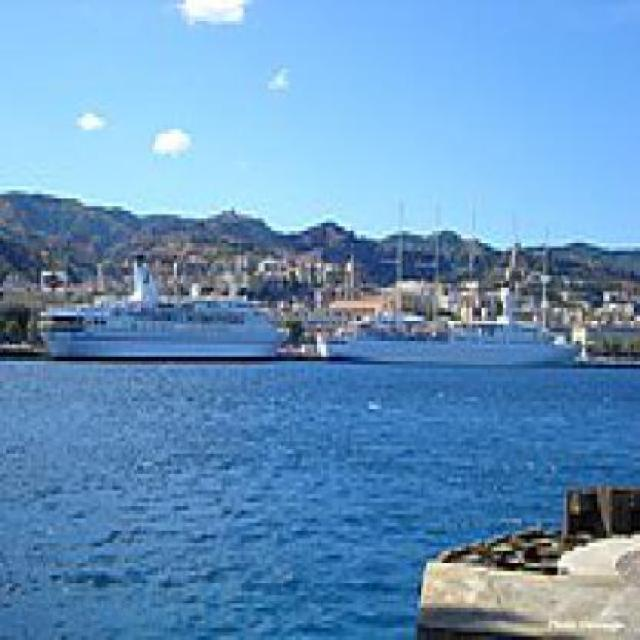cruise: (22, 240, 300, 371)
